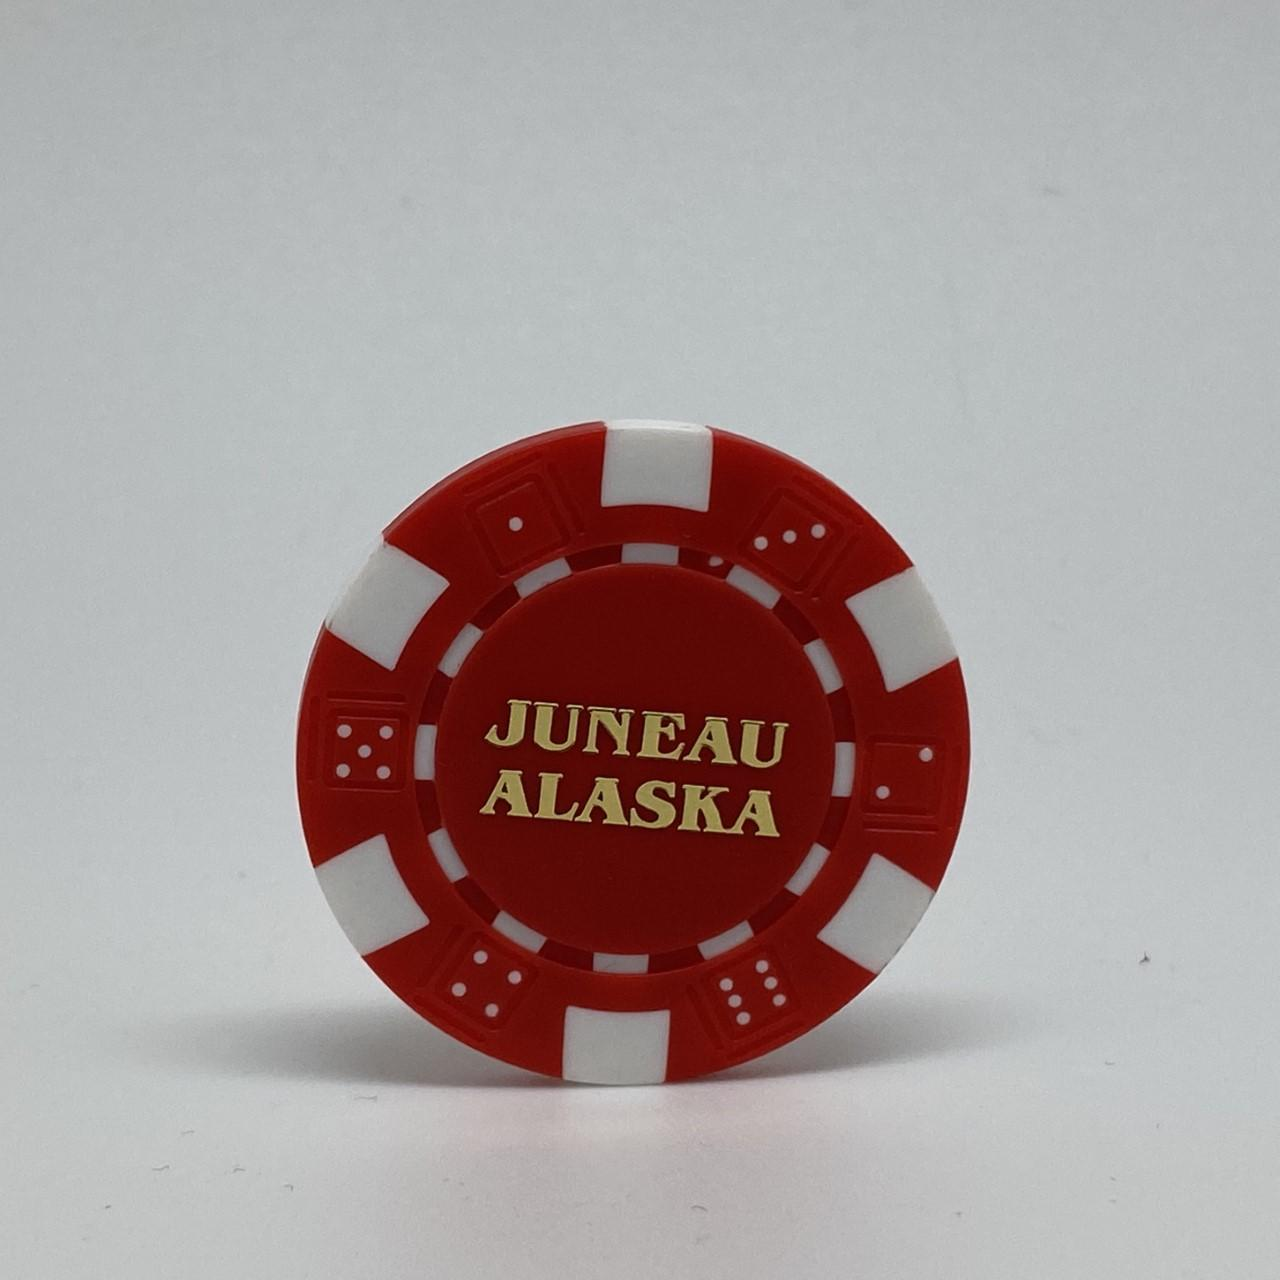chip-red: (298, 422, 971, 1084)
